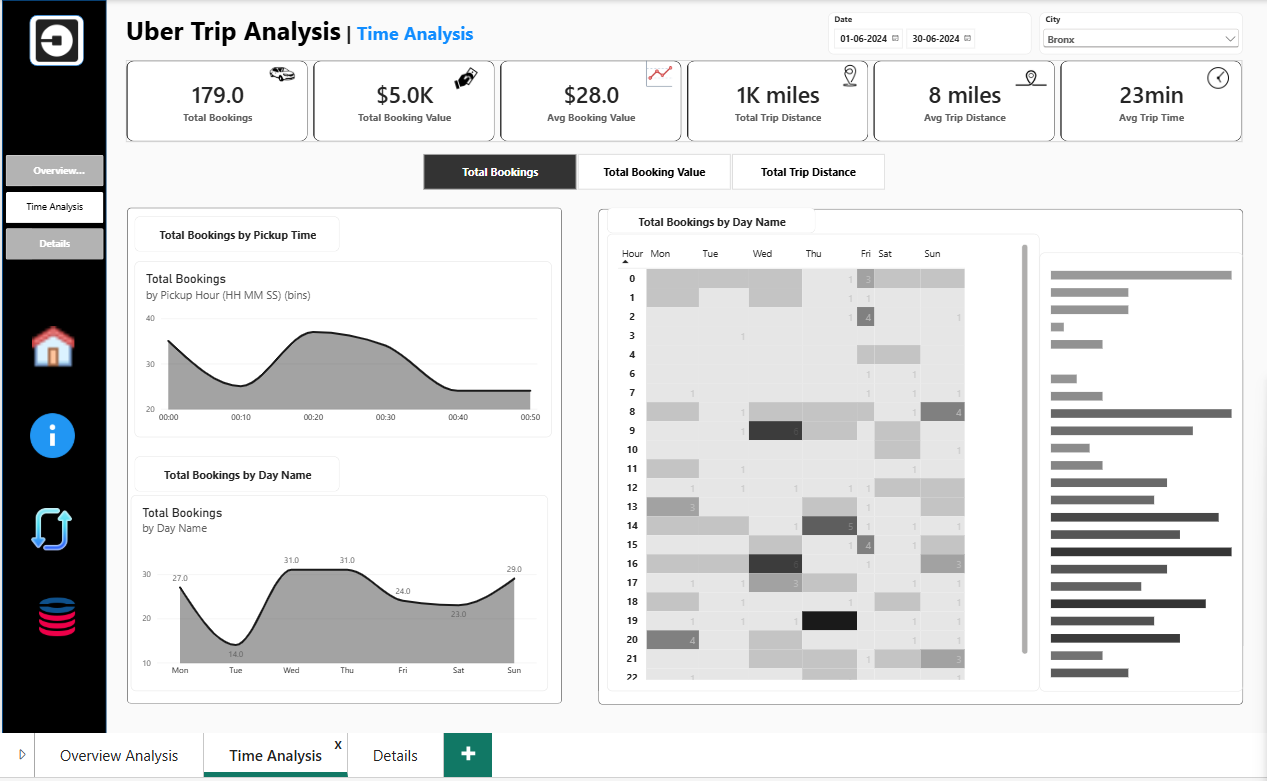

The dashboard page shown, as its layout file describes it:
{"tool":"powerbi","page":{"name":"Time Analysis","canvas":[1920,1080],"ordinal":1},"visuals":[{"type":"shape","box":[0,0,153.8,1080.4],"z":0},{"type":"textbox","box":[182.8,18.1,805.3,57.9],"z":1000},{"type":"cardVisual","fields":{"Data":["Trip Details.Total Bookings","Trip Details.Total Booking Amount","Calendar Table.Avg Booking Amount","Trip Details.Total Trip Distance","Trip Details.Avg Trip Distance","Trip Details.Avg Trip Time"]},"box":[182.8,88.7,1645,121.2],"z":2000},{"type":"image","box":[658.7,97.7,48.9,34.4],"z":3000},{"type":"image","box":[1221.5,92.3,50.7,39.8],"z":4000},{"type":"image","box":[1485.7,92.3,59.7,45.2],"z":5000},{"type":"image","box":[1768,97.7,43.4,34.4],"z":6000},{"type":"image","box":[948.3,88.7,39.8,39.8],"z":7000},{"type":"image","box":[394.5,88.7,38,38],"z":8000},{"type":"shape","box":[184.1,305.5,640.5,730.7],"z":9000},{"type":"slicer","fields":{"Values":["Dynamic Measure.Dynamic Measure"]},"box":[600,224.5,718.8,56.3],"z":10000},{"type":"slicer","fields":{"Values":["Calendar Table.Date"]},"box":[1216.1,18.2,299.5,61.7],"z":11000},{"type":"slicer","fields":{"Values":["Location Table.City"]},"box":[1528.3,18.2,299.5,61.7],"z":12000},{"type":"areaChart","fields":{"Category":["Trip Details.Pickup Hour (HH MM SS) (bins)"],"Y":["Trip Details.Total Bookings"]},"box":[195.1,384.7,614.7,259.5],"z":13000},{"type":"cardVisual","fields":{"Data":["Trip Details.Title for by Pickup Time"]},"box":[195.1,318.4,302.7,53],"z":14000},{"type":"areaChart","fields":{"Category":["Calendar Table.Day Name"],"Y":["Trip Details.Total Bookings"]},"box":[189.6,728.8,614.7,289],"z":15000},{"type":"cardVisual","fields":{"Data":["Trip Details.Title for by Day Name"]},"box":[195.1,671.8,302.7,53],"z":16000},{"type":"shape","box":[877.9,307.4,949.7,730.7],"z":17000},{"type":"pivotTable","fields":{"Columns":["Calendar Table.Day Name"],"Rows":["Trip Details.Pickup Hour"],"Values":["Trip Details.Total Bookings"]},"box":[890.8,344.2,636.8,673.6],"z":18000},{"type":"barChart","fields":{"Category":["Trip Details.Pickup Hour"],"Y":["Trip Details.Total Bookings"]},"box":[1527.6,371.8,300,646],"z":19000},{"type":"cardVisual","fields":{"Data":["Trip Details.Title for by Day Name"]},"box":[890.7,306.4,307.4,38.7],"z":20000},{"type":"pageNavigator","box":[5.5,228.2,144,156],"z":21000},{"type":"shape","box":[40.5,22.1,80,75],"z":22000},{"type":"image","box":[49.7,16.6,62,86],"z":23000},{"type":"image","box":[33.1,601.8,82.8,79.1],"z":23001},{"type":"image","box":[44.2,478.5,62.6,66.3],"z":23002},{"type":"image","box":[35.5,728.3,77.3,99.4],"z":23003},{"type":"image","box":[46,877.9,69.9,60.7],"z":23004}]}

Visuals, with their boxes on the page's 1920x1080 design canvas (x1, y1, x2, y2). These are canvas units, not pixel positions in the 1267x781 screenshot, which may show the page scaled, cropped or inside an application window:
shape: {"left": 0, "top": 0, "right": 154, "bottom": 1080}
textbox: {"left": 183, "top": 18, "right": 988, "bottom": 76}
cardVisual - Trip Details.Total Bookings x Trip Details.Total Booking Amount: {"left": 183, "top": 89, "right": 1828, "bottom": 210}
image: {"left": 659, "top": 98, "right": 708, "bottom": 132}
image: {"left": 1222, "top": 92, "right": 1272, "bottom": 132}
image: {"left": 1486, "top": 92, "right": 1545, "bottom": 138}
image: {"left": 1768, "top": 98, "right": 1811, "bottom": 132}
image: {"left": 948, "top": 89, "right": 988, "bottom": 128}
image: {"left": 394, "top": 89, "right": 432, "bottom": 127}
shape: {"left": 184, "top": 306, "right": 825, "bottom": 1036}
slicer - Dynamic Measure.Dynamic Measure: {"left": 600, "top": 224, "right": 1319, "bottom": 281}
slicer - Calendar Table.Date: {"left": 1216, "top": 18, "right": 1516, "bottom": 80}
slicer - Location Table.City: {"left": 1528, "top": 18, "right": 1828, "bottom": 80}
areaChart - Trip Details.Pickup Hour (HH MM SS) (bins) x Trip Details.Total Bookings: {"left": 195, "top": 385, "right": 810, "bottom": 644}
cardVisual - Trip Details.Title for by Pickup Time: {"left": 195, "top": 318, "right": 498, "bottom": 371}
areaChart - Calendar Table.Day Name x Trip Details.Total Bookings: {"left": 190, "top": 729, "right": 804, "bottom": 1018}
cardVisual - Trip Details.Title for by Day Name: {"left": 195, "top": 672, "right": 498, "bottom": 725}
shape: {"left": 878, "top": 307, "right": 1828, "bottom": 1038}
pivotTable - Calendar Table.Day Name x Trip Details.Pickup Hour: {"left": 891, "top": 344, "right": 1528, "bottom": 1018}
barChart - Trip Details.Pickup Hour x Trip Details.Total Bookings: {"left": 1528, "top": 372, "right": 1828, "bottom": 1018}
cardVisual - Trip Details.Title for by Day Name: {"left": 891, "top": 306, "right": 1198, "bottom": 345}
pageNavigator: {"left": 6, "top": 228, "right": 150, "bottom": 384}
shape: {"left": 40, "top": 22, "right": 120, "bottom": 97}
image: {"left": 50, "top": 17, "right": 112, "bottom": 103}
image: {"left": 33, "top": 602, "right": 116, "bottom": 681}
image: {"left": 44, "top": 478, "right": 107, "bottom": 545}
image: {"left": 36, "top": 728, "right": 113, "bottom": 828}
image: {"left": 46, "top": 878, "right": 116, "bottom": 939}
